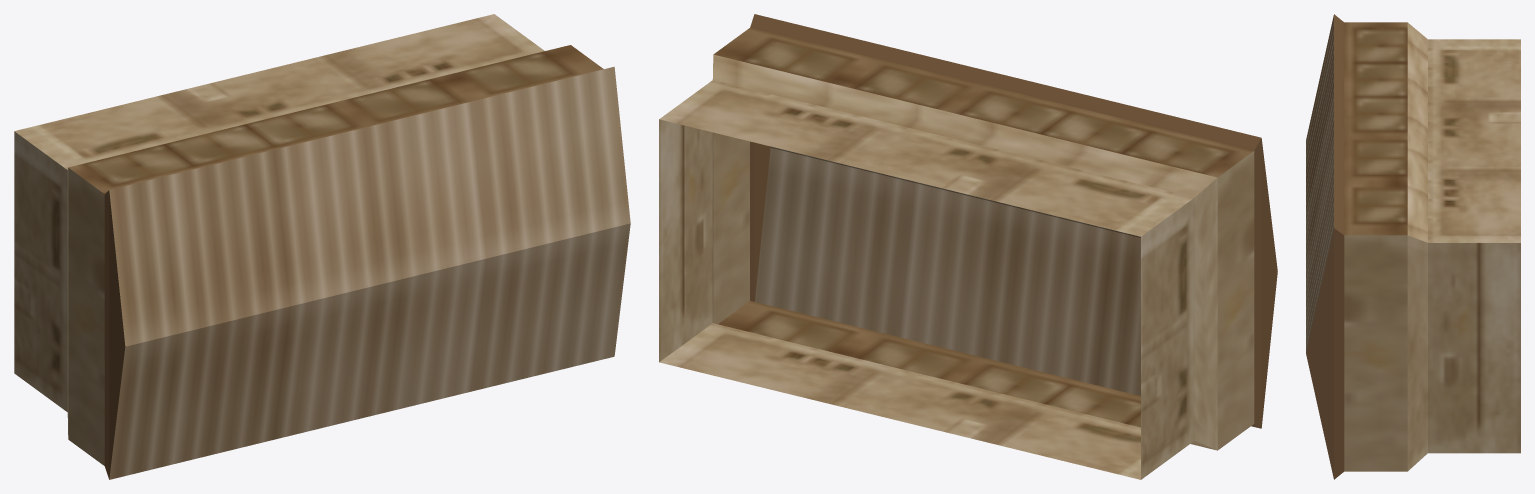
Rendered from urbanshed01b_wtf.obj.
3 renders of one model, left to right at view 1: azimuth 30°, elevation 25°; view 2: azimuth 150°, elevation 25°; view 3: azimuth 270°, elevation 25°, orthographic. The views are drawn at different scales.
Visible parts, largest first — view 1: group2; view 2: group2; view 3: group2.
Boxes of the visible parts, box(x1,y1,x2,y2) form: group2: box(14, 14, 630, 479); group2: box(659, 14, 1277, 479); group2: box(1306, 14, 1520, 479).
Bounding box in the file's own units: 660 × 362 × 280.
